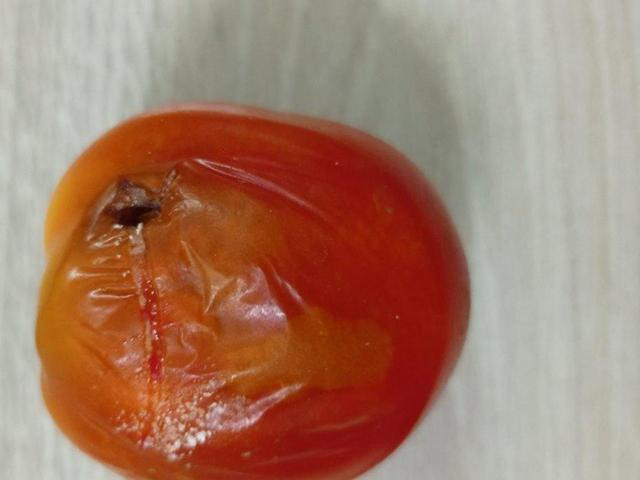defect: (26, 96, 476, 480)
